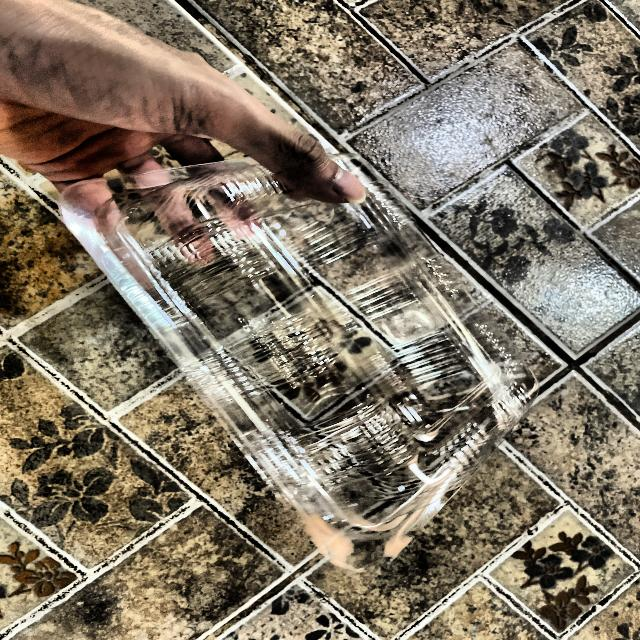plastic container: (64, 142, 523, 568)
